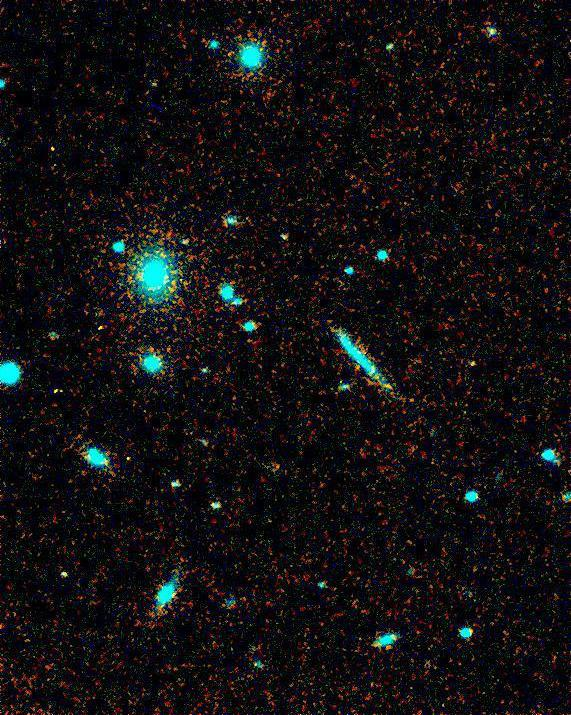star: (337, 353, 367, 383)
